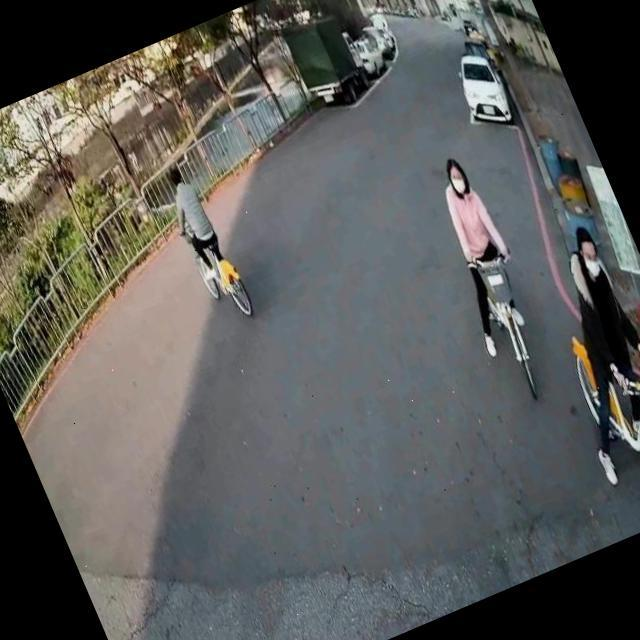person: (507, 214, 640, 496), (411, 148, 550, 364), (153, 155, 237, 287)
